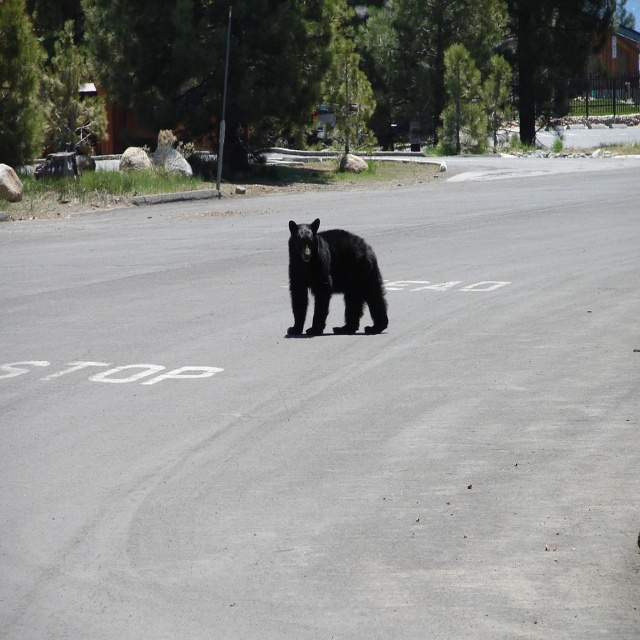Bear: (286, 217, 390, 337)
